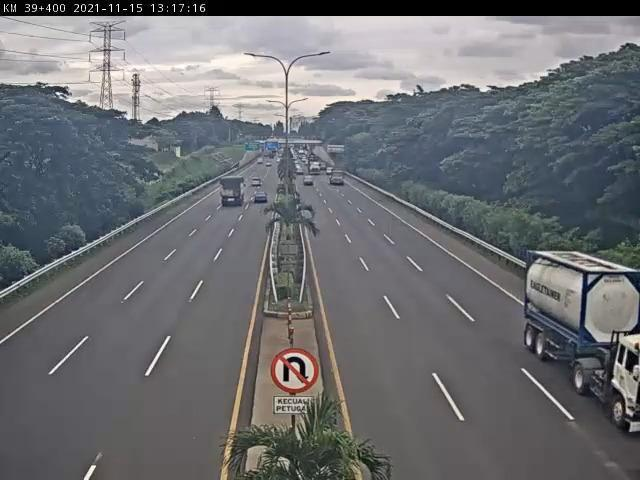car: (255, 189, 272, 206)
truck: (527, 249, 640, 451), (222, 173, 248, 207)
